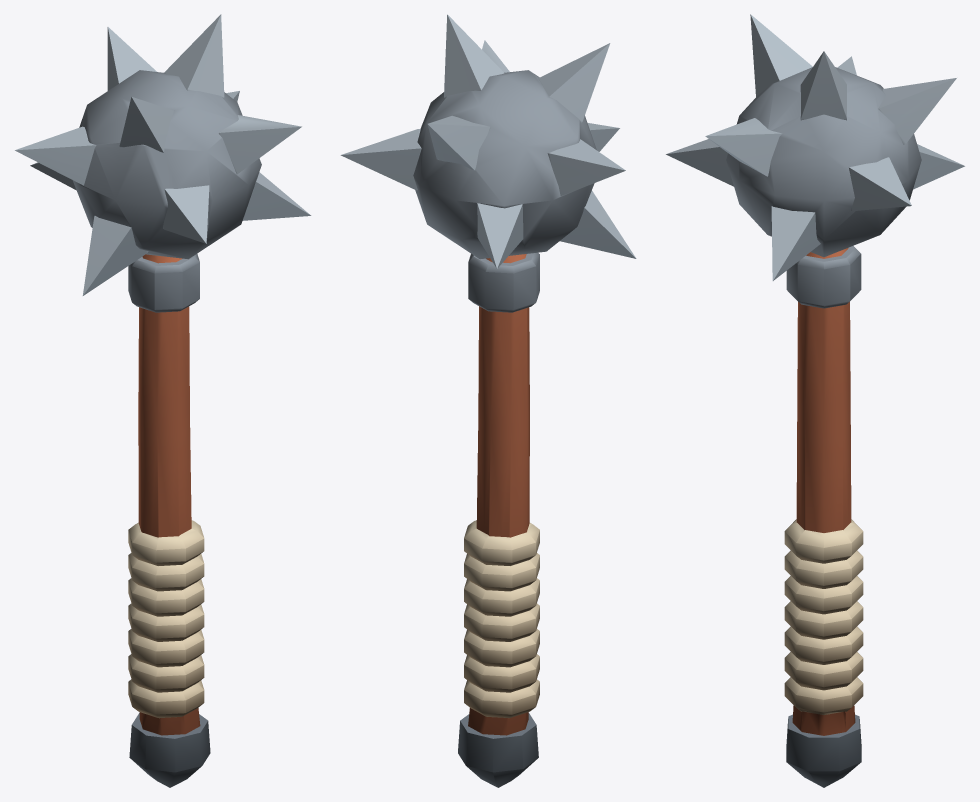
File: morning_star_iron.glb
3 renders of one model, left to right at view 1: azimuth 30°, elevation 25°; view 2: azimuth 150°, elevation 25°; view 3: azimuth 270°, elevation 25°, orthographic.
Parts seen in each view (by area): view 1: Item; view 2: Item; view 3: Item.
Part boxes in pixels (x1,y1,x2,y2): Item: (15, 14, 311, 787); Item: (340, 14, 636, 787); Item: (666, 14, 964, 787).
Bounding box in the file's own units: 0.5783 × 1.63 × 0.5829.
Materials: 2 (2 with a texture image).
